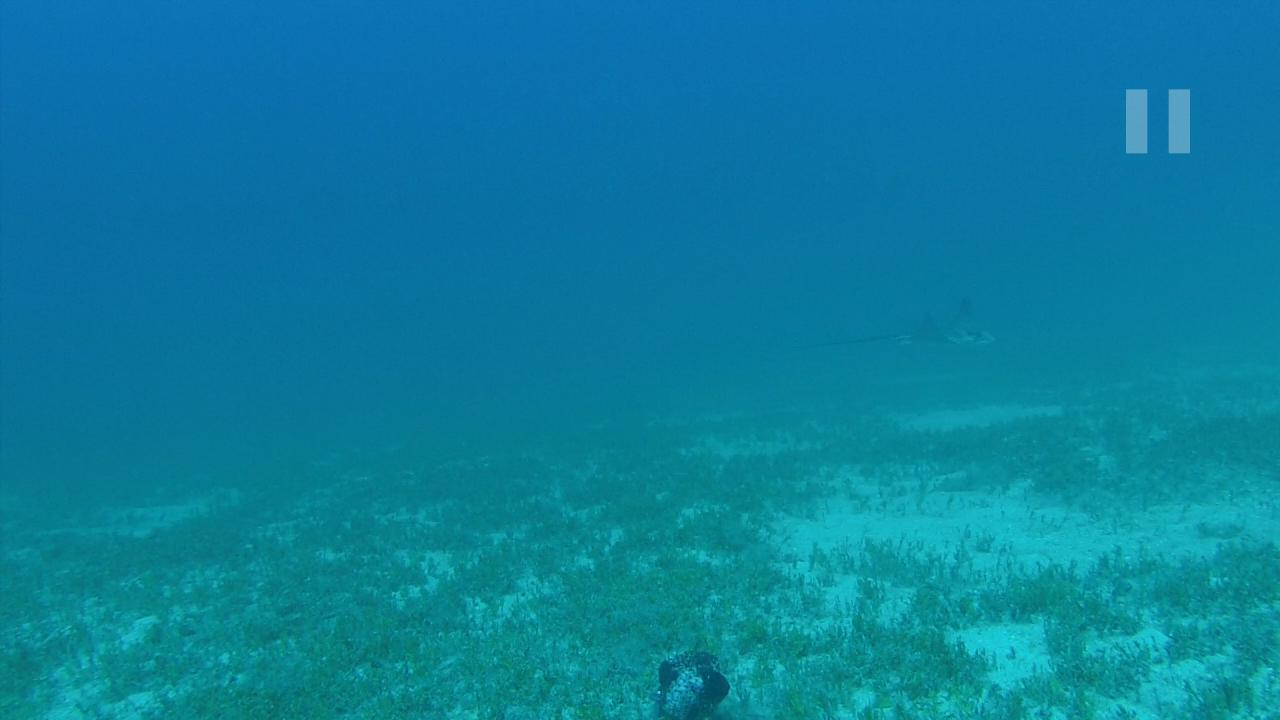dasyatis: (788, 292, 996, 354)
